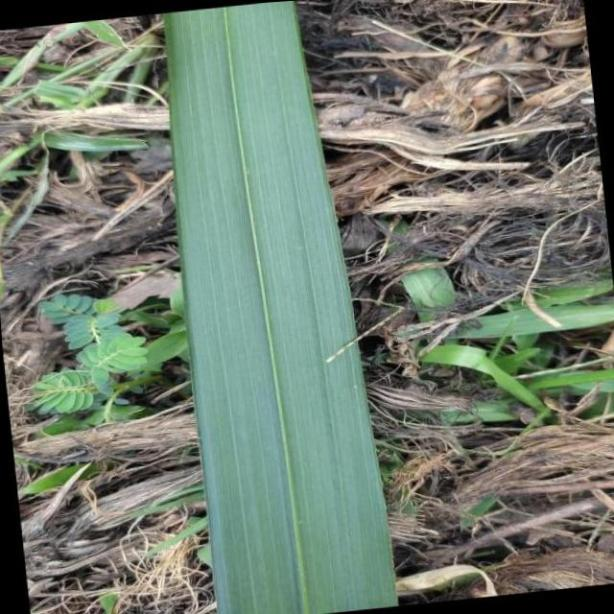Healthy: (168, 8, 400, 608)
